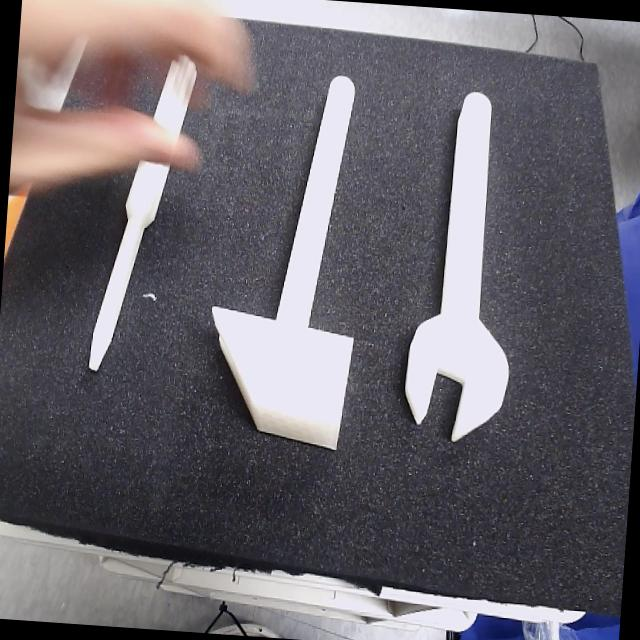Hammer: (211, 76, 354, 452)
Spanner: (403, 91, 509, 444)
